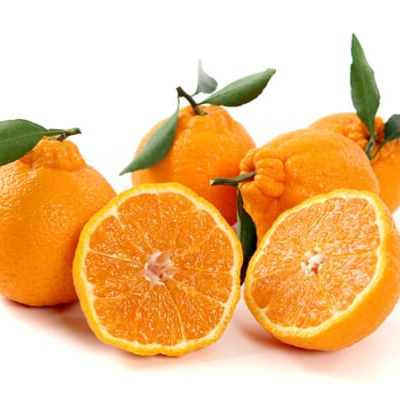mandarin: (72, 183, 245, 356), (243, 189, 400, 353)
